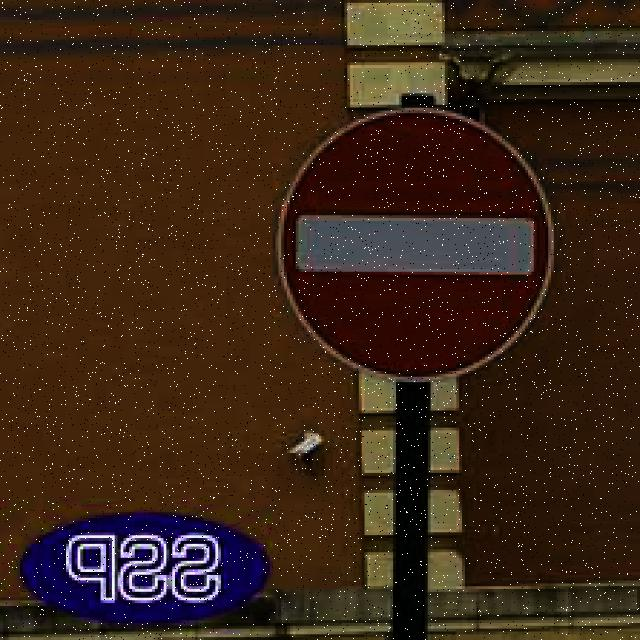no entry: (278, 108, 554, 380)
